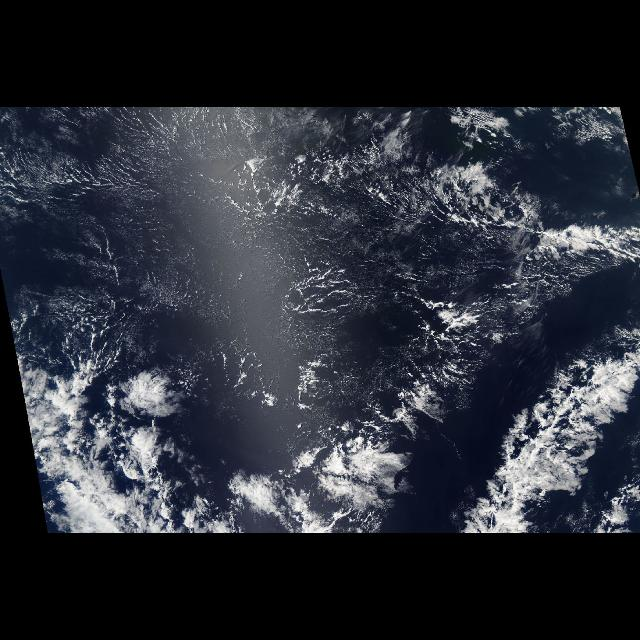Fish: (311, 223, 639, 532)
Gravel: (231, 132, 575, 394)
Sugar: (0, 108, 378, 350)
